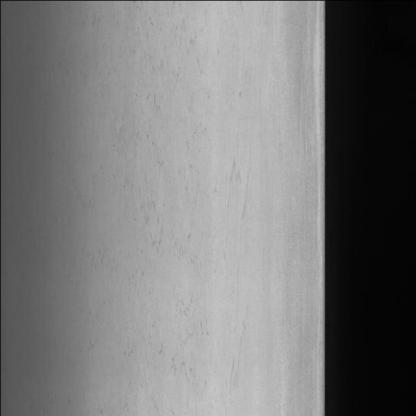silk_spot: (80, 24, 255, 384)
